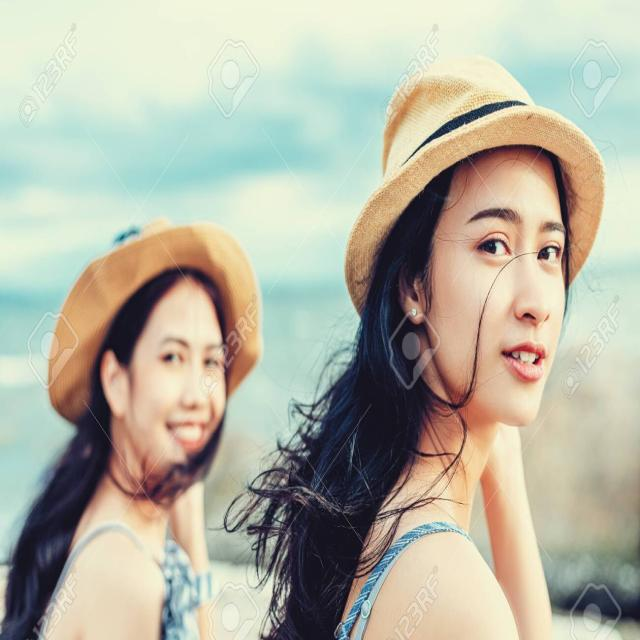hat: (342, 55, 607, 430), (46, 222, 264, 484)
